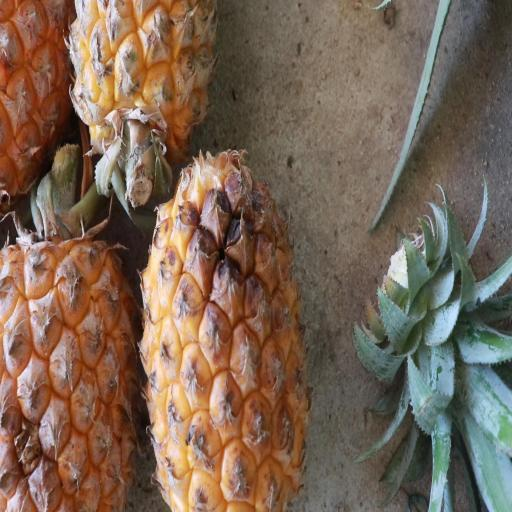Pineapple - v8 v1: (138, 141, 311, 512), (0, 146, 138, 512), (71, 0, 222, 197)
